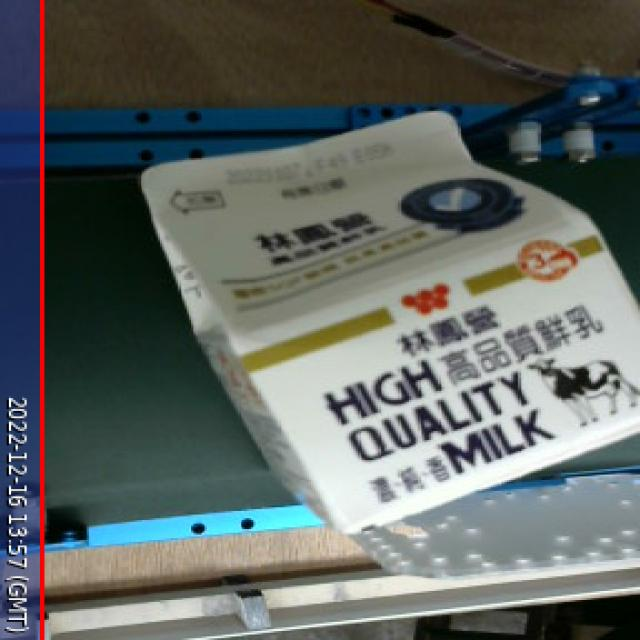non_white_jug: (122, 91, 640, 548)
